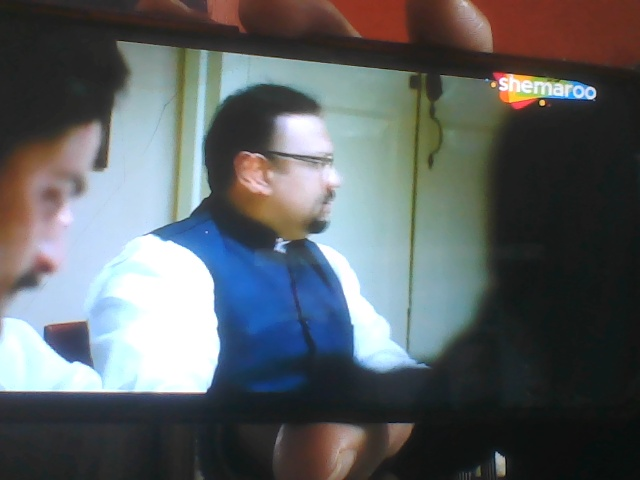fake: (239, 85, 347, 238)
